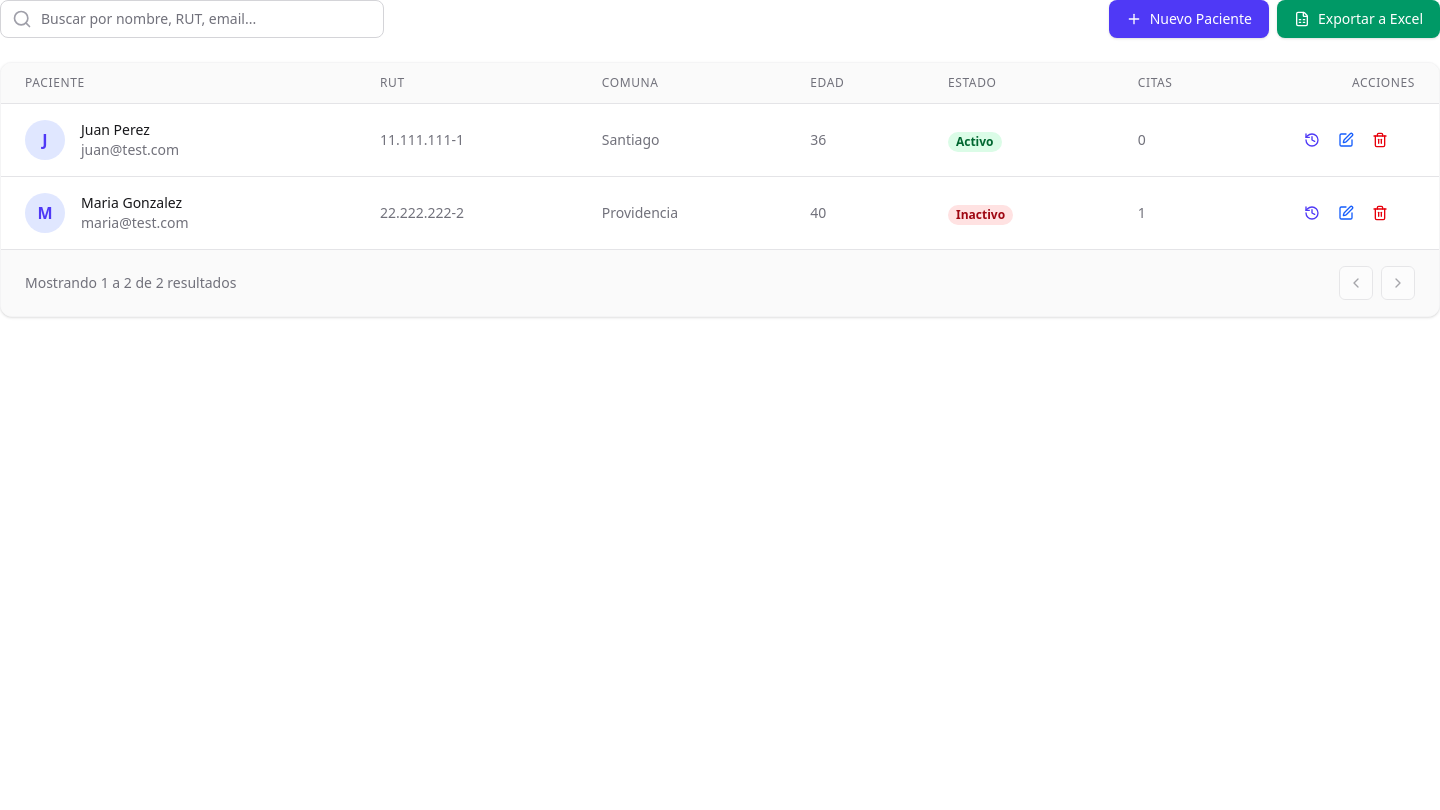
Scenario: PatientsTable Component › opens create modal
The image size is (1440, 810).
Step 1. Click the button "Nuevo Paciente" → coordinates (1189, 19), box x1=1109 y1=0 x2=1269 y2=38
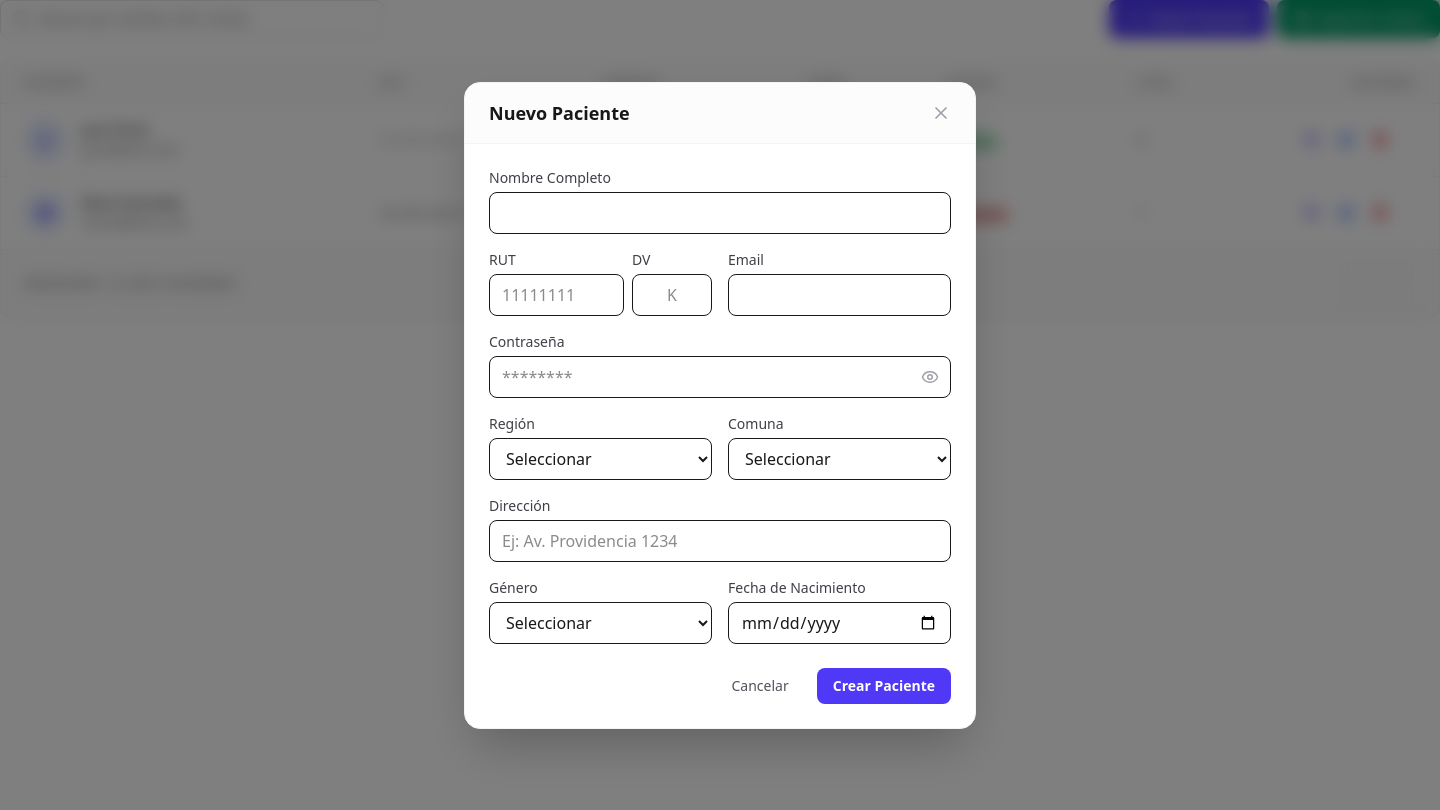
Expected: the heading "Nuevo Paciente" is shown, x1=489 y1=98 x2=630 y2=126
